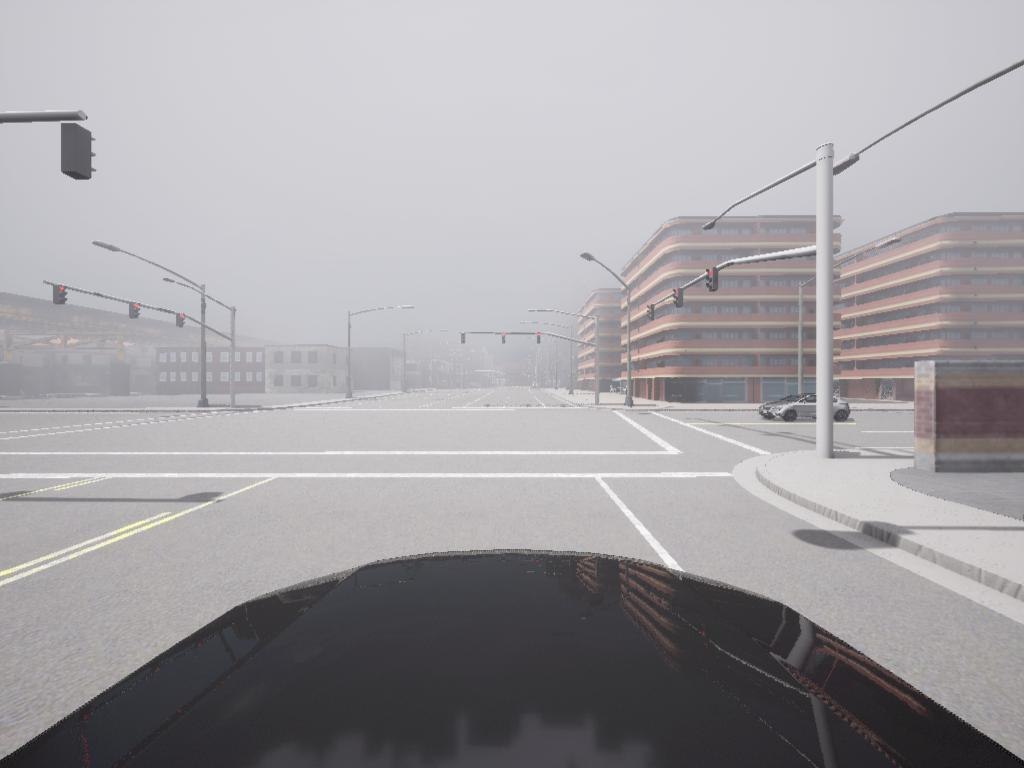traffic_light: (59, 127, 96, 184), (707, 268, 720, 294), (645, 304, 658, 325), (53, 285, 66, 305), (673, 289, 685, 310), (133, 305, 143, 322), (176, 314, 185, 330), (462, 332, 468, 347), (499, 333, 507, 344), (539, 335, 545, 345)
